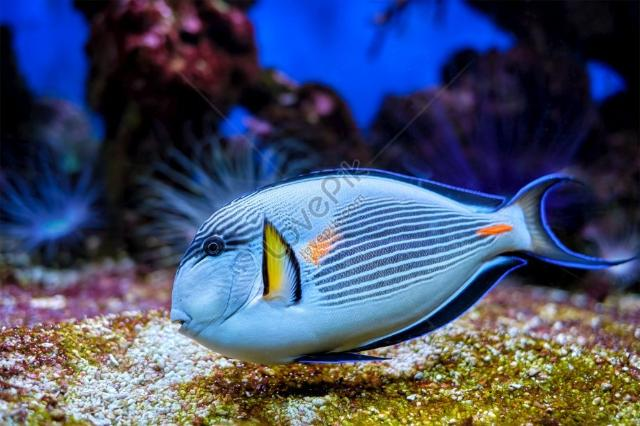Mulut: (148, 287, 212, 363)
Sirip Anal: (356, 244, 534, 352)
Sirip Dada: (246, 202, 312, 320)
Sirip Ekor: (504, 162, 640, 282)
Sirip Perut: (286, 340, 404, 380)
Sirip Punggung: (264, 162, 508, 218)
